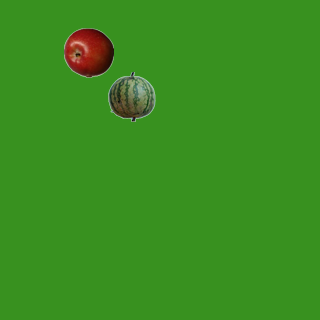Apple Braeburn: (63, 27, 113, 77)
Watermelon: (106, 71, 156, 121)
